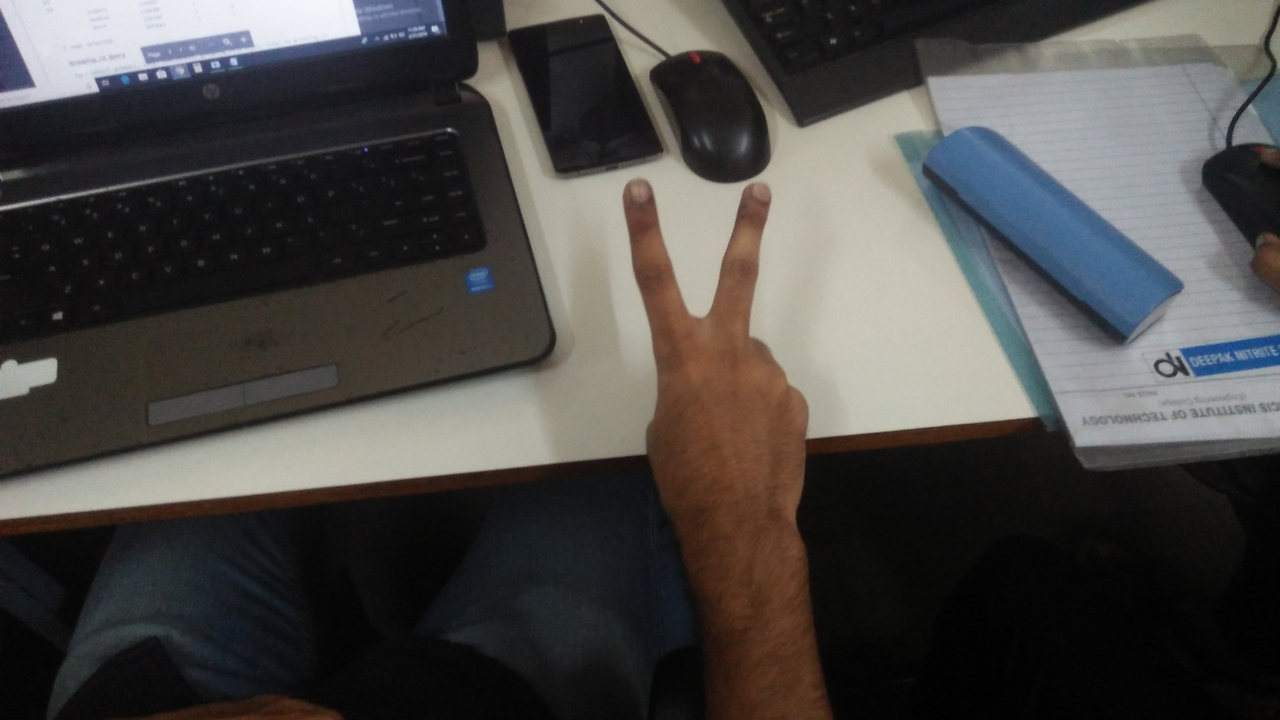fingertip: (610, 162, 672, 218), (726, 166, 784, 216)
